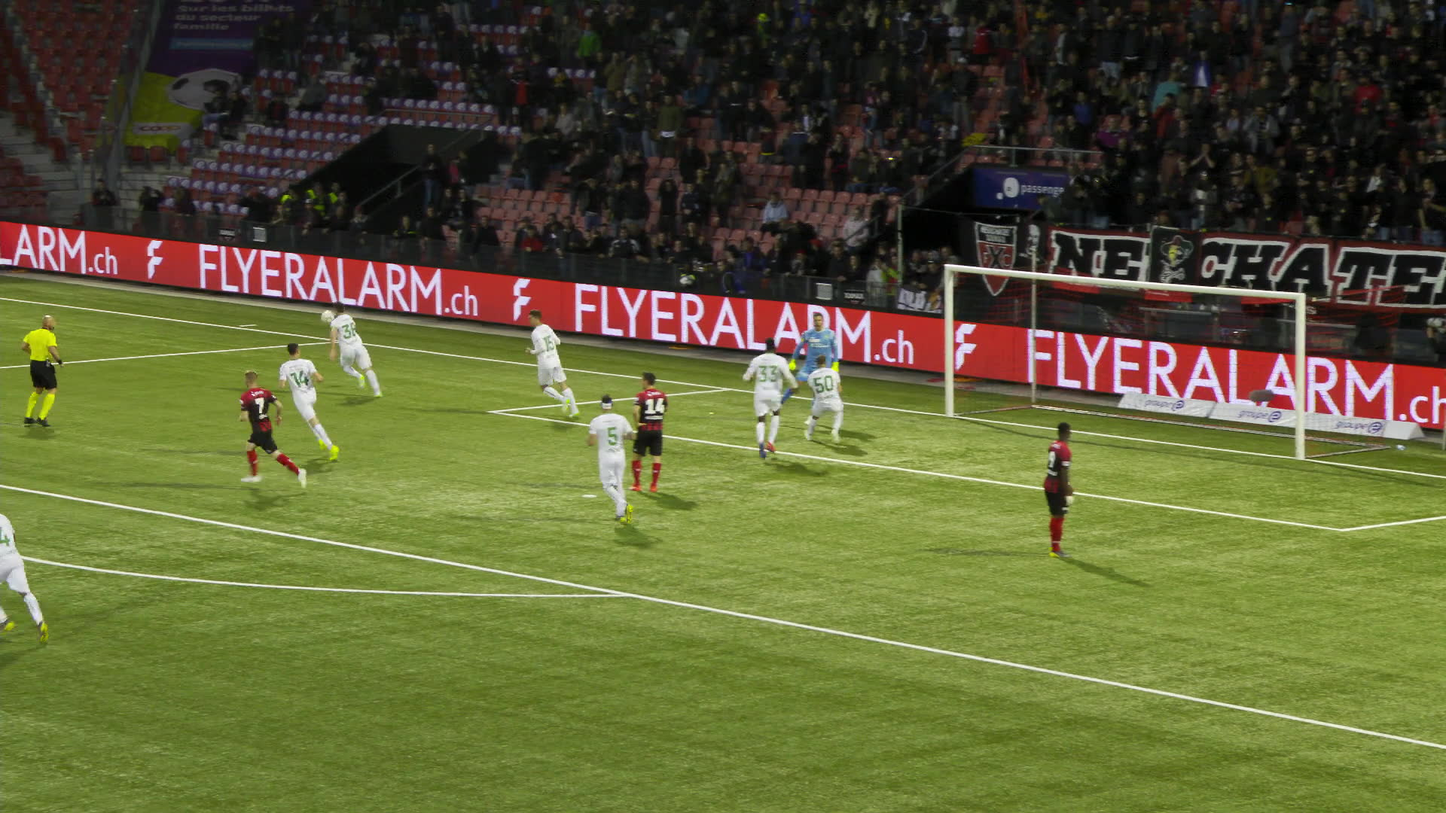ball: (321, 310, 334, 322)
player: (239, 371, 310, 486), (733, 339, 795, 455), (279, 341, 338, 458), (0, 508, 53, 636), (587, 395, 636, 523), (525, 308, 580, 419), (782, 312, 837, 422), (328, 301, 384, 400), (627, 372, 667, 492), (1040, 422, 1075, 556), (804, 353, 842, 444)
referee: (17, 317, 66, 427)
